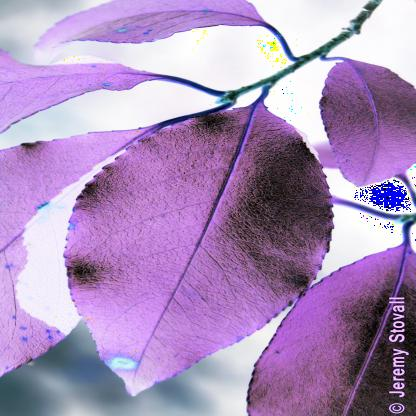Cherry leaf: (47, 87, 346, 396), (8, 0, 286, 53), (318, 58, 413, 190)
